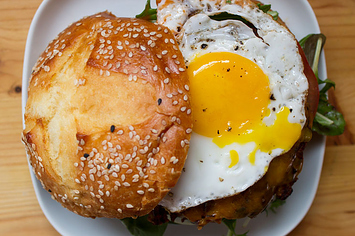fried egg: (191, 14, 289, 183)
slice of bread: (27, 17, 198, 226)
